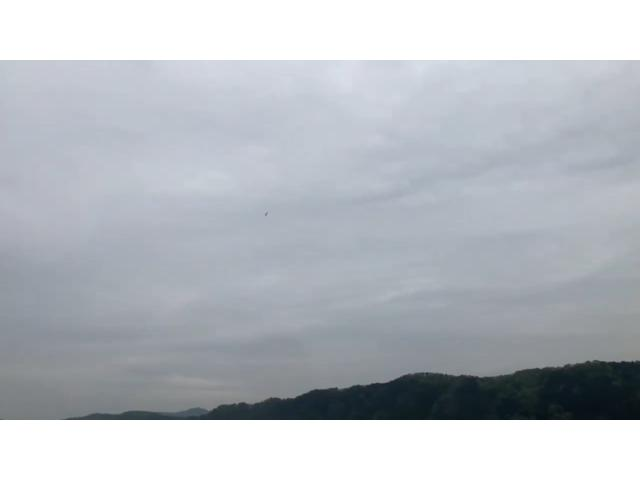Anti-Drone: (261, 208, 275, 220)
